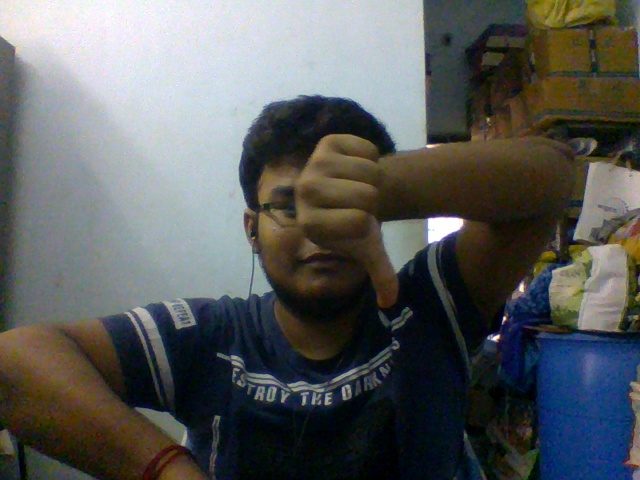ThumbsDown: (293, 132, 402, 307)
